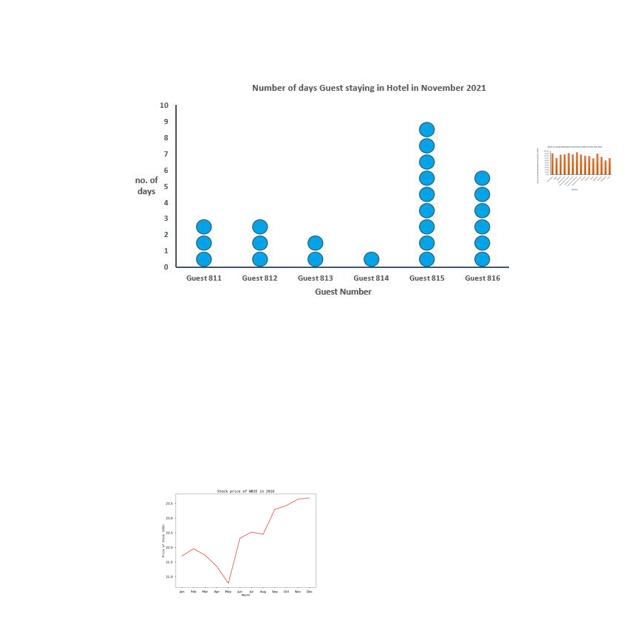Graph: (131, 79, 509, 302), (153, 478, 334, 602), (535, 145, 614, 191)
